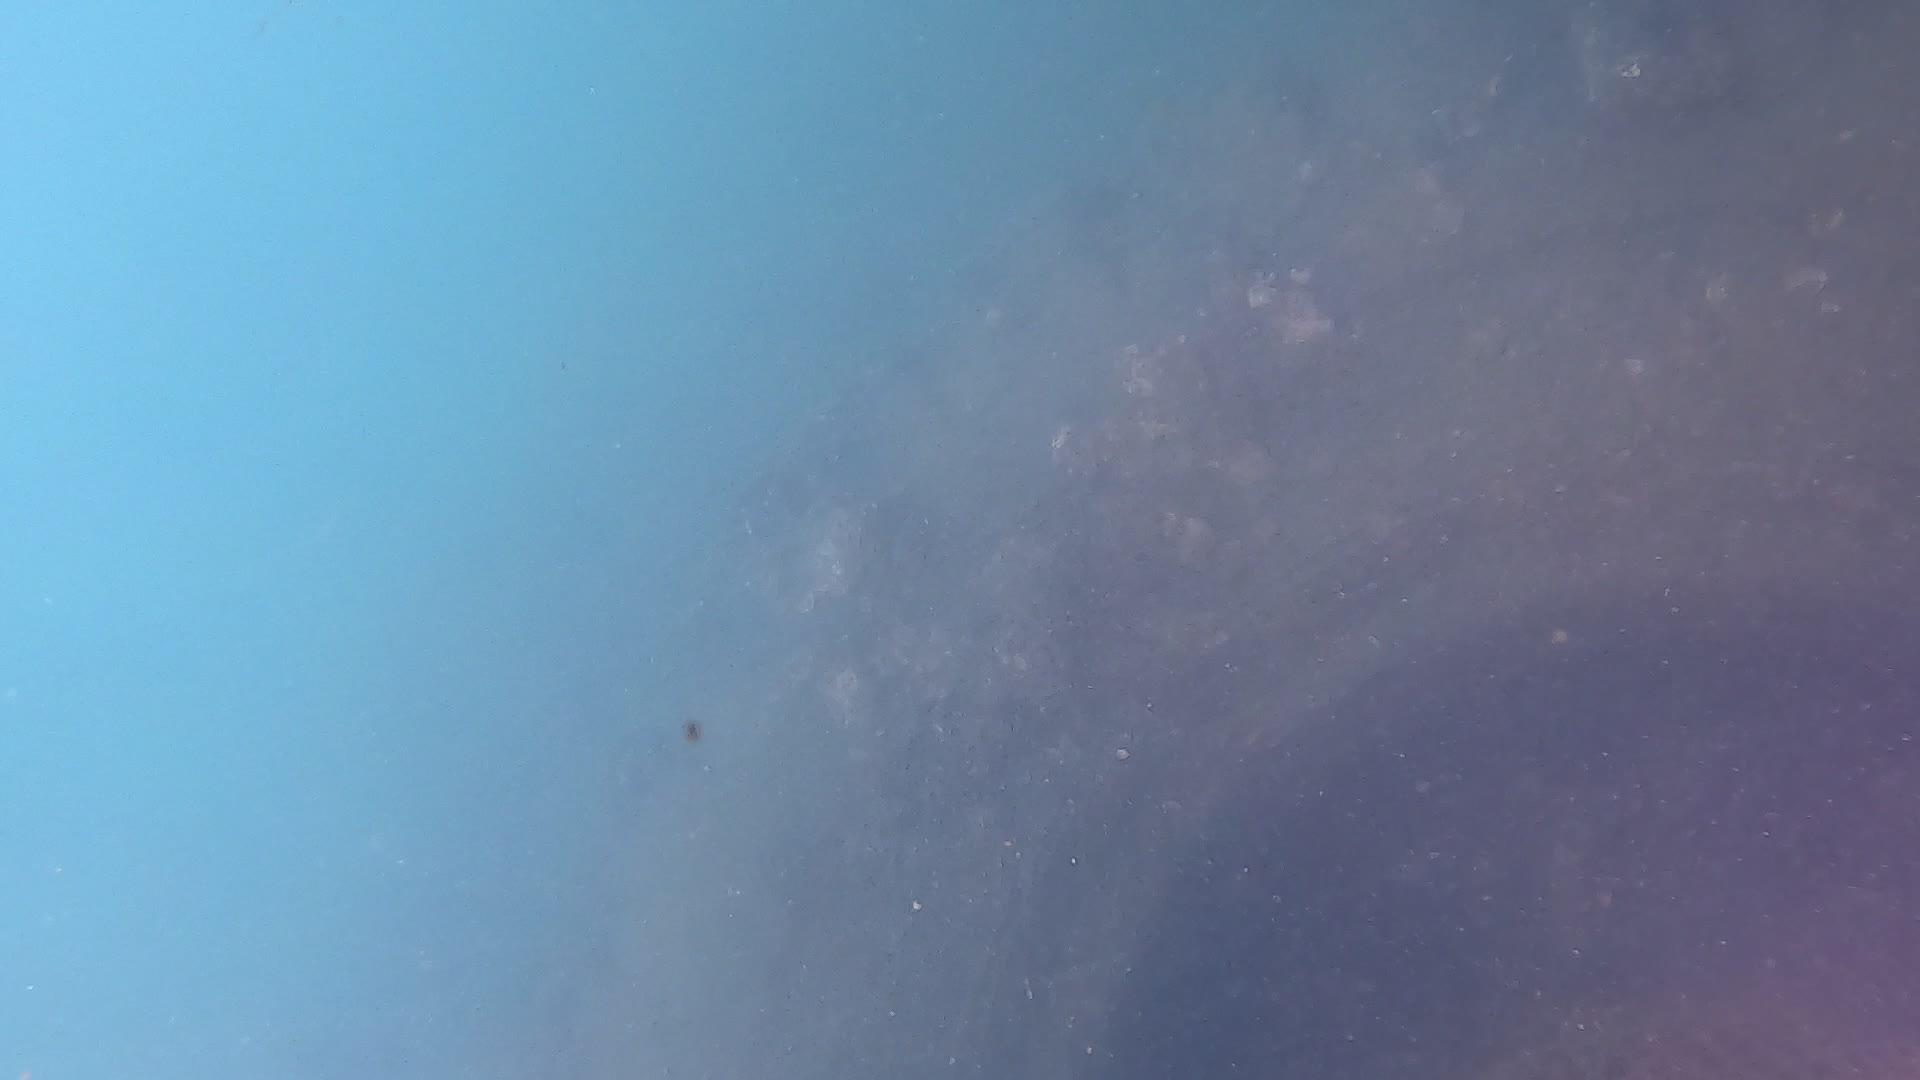tire: (516, 1, 1920, 1080)
